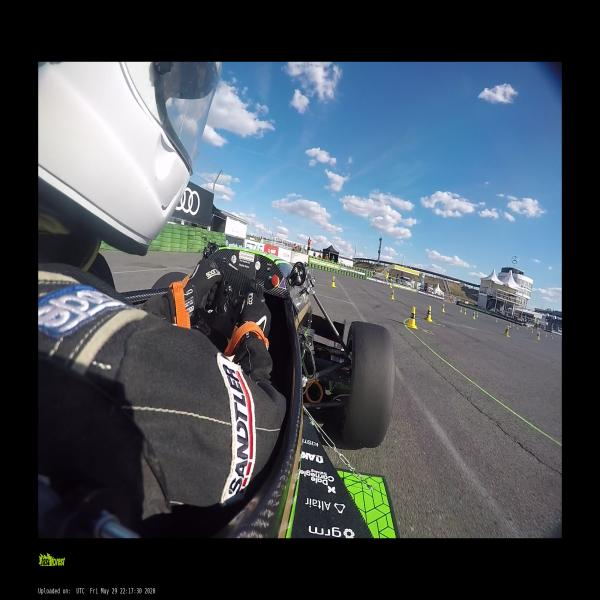yellow_cone: (407, 306, 417, 329), (424, 306, 432, 321), (503, 325, 510, 337), (331, 276, 336, 288), (390, 290, 395, 299), (441, 304, 444, 312), (472, 313, 475, 319), (536, 334, 539, 340), (508, 323, 511, 328), (460, 307, 462, 313), (464, 309, 466, 314), (517, 325, 519, 330), (476, 313, 478, 318), (496, 318, 498, 323), (512, 323, 514, 327), (545, 333, 547, 337), (531, 330, 533, 333), (526, 327, 528, 330), (391, 284, 392, 288)
